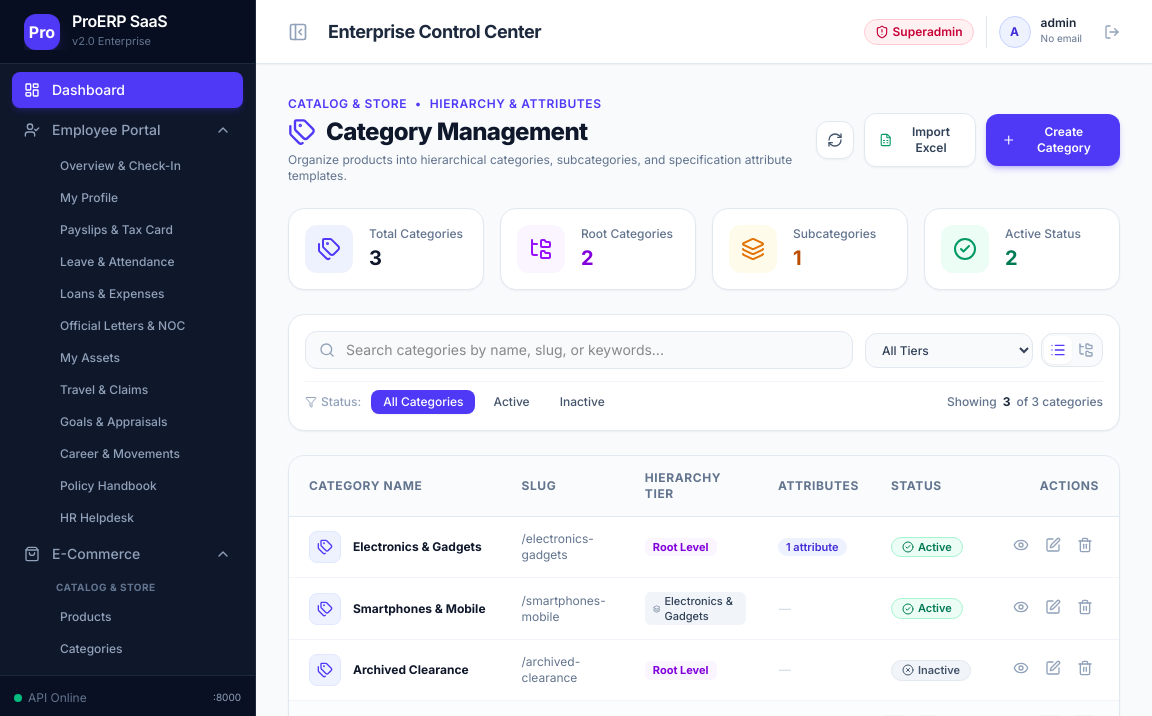
Test: Ecommerce Categories In-Place Non-Destructive Filtering Audit › performs in-place search without unmounting table
Note: Type "Smartphones"
Type "Smartphones" into the field with placeholder "Search categories by name, slug, or keywords..." at coordinates (579, 350), box [305, 331, 853, 369]
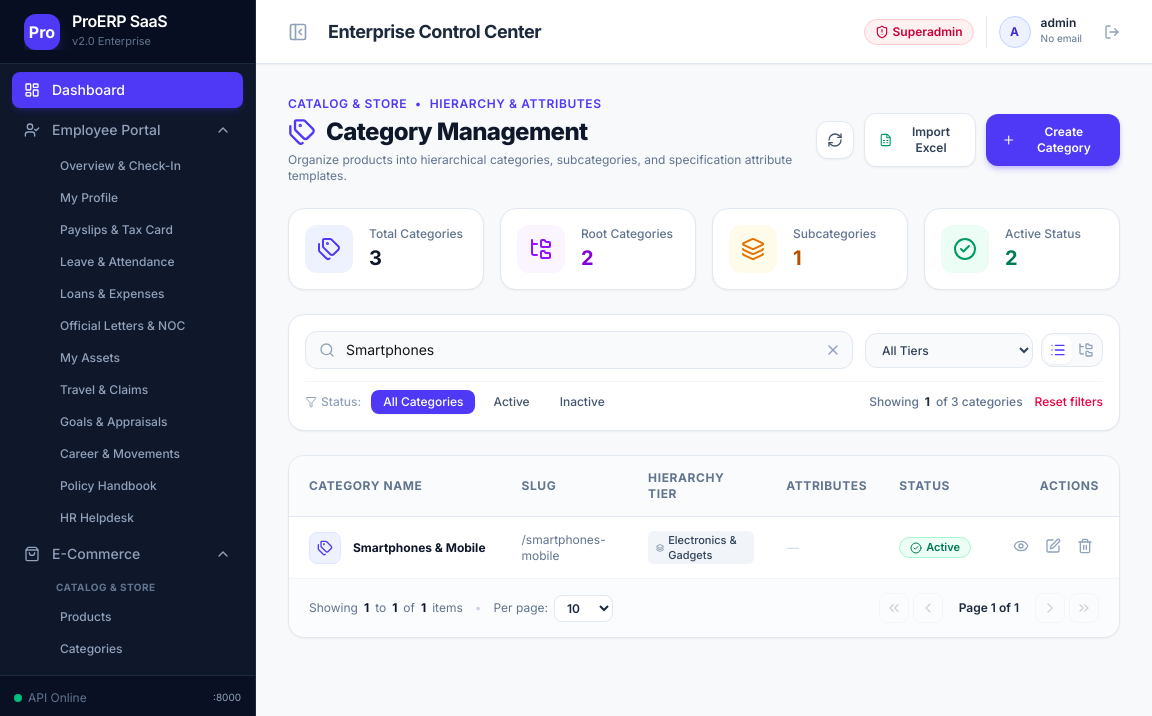
expect the text "Smartphones & Mobile" is shown: met, box [353, 540, 486, 556]
expect the text "Archived Clearance" is gone: met
